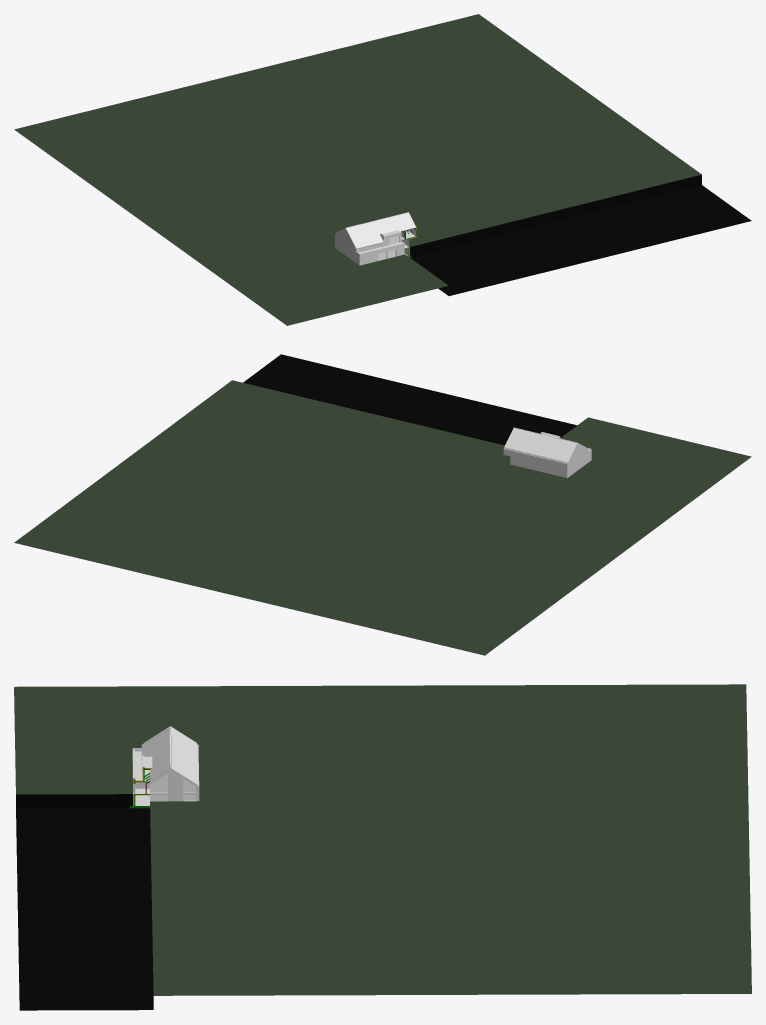
Rendered from building.gltf.
3 views of the same model, one above another, from view 1: azimuth 30°, elevation 25°; view 2: azimuth 150°, elevation 25°; view 3: azimuth 270°, elevation 25° (orthographic). The views are drawn at different scales.
Parts seen in each view (by area): view 1: Teren, ScianyZewnetrzne, dachSpadowy; view 2: Teren, ScianyZewnetrzne, dachSpadowy; view 3: Teren, dachSpadowy, ScianyZewnetrzne, okna.
Boxes of the visible parts, <box> form: Teren: <box>14,14,751,325</box>; ScianyZewnetrzne: <box>335,212,416,265</box>; dachSpadowy: <box>346,213,415,248</box>; Teren: <box>14,354,751,655</box>; ScianyZewnetrzne: <box>503,427,591,477</box>; dachSpadowy: <box>505,428,576,462</box>; Teren: <box>14,684,751,1010</box>; dachSpadowy: <box>141,727,197,784</box>; ScianyZewnetrzne: <box>132,726,199,801</box>; okna: <box>150,773,195,800</box>.
Size of the model in its own units: 141 by 10.94 by 141.
